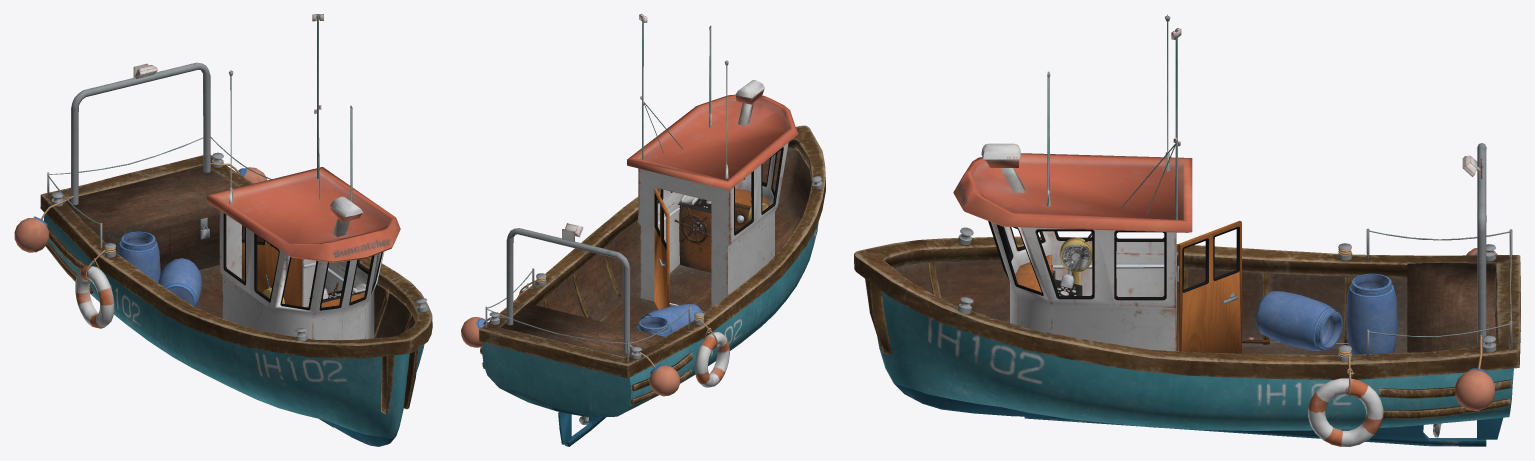
The model's file is ship.glb.
3 renders of one model, left to right at view 1: azimuth 30°, elevation 25°; view 2: azimuth 150°, elevation 25°; view 3: azimuth 270°, elevation 25°, orthographic. The views are drawn at different scales.
Parts seen in each view (by area): view 1: Fishing_Ship_Asset; view 2: Fishing_Ship_Asset; view 3: Fishing_Ship_Asset.
Part boxes in pixels (x1=…): Fishing_Ship_Asset: x1=14, y1=14, x2=432, y2=446; Fishing_Ship_Asset: x1=461, y1=14, x2=825, y2=446; Fishing_Ship_Asset: x1=854, y1=14, x2=1520, y2=446.
Size of the model in its own units: 4.22 by 6.19 by 8.48.
Materials: 3 (2 with a texture image).
